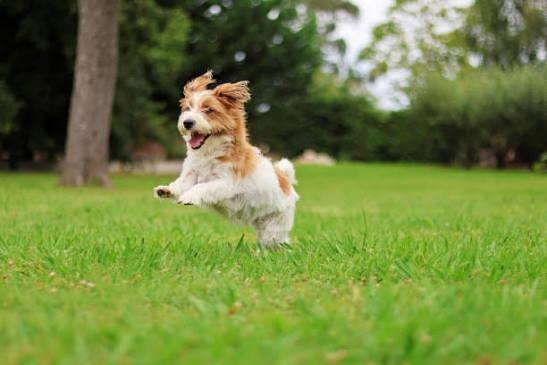adult_dog: (153, 67, 297, 249)
